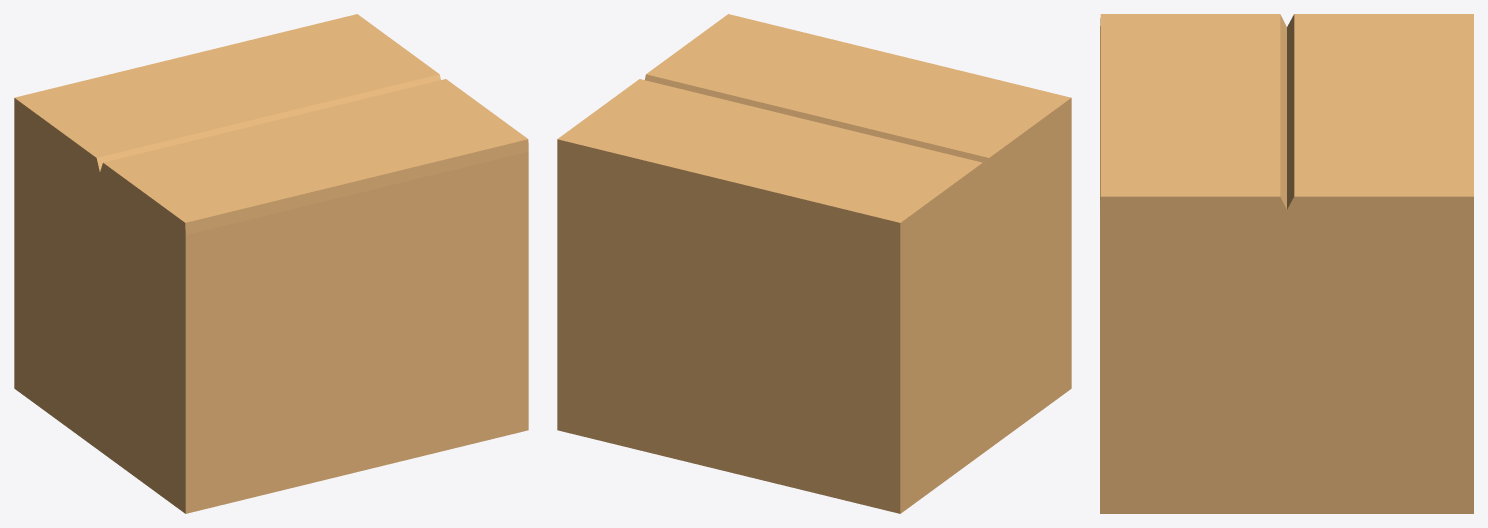
The model's file is cardboard-box_04.fbx.
3 views of the same model, side by side, from view 1: azimuth 30°, elevation 25°; view 2: azimuth 150°, elevation 25°; view 3: azimuth 270°, elevation 25° (orthographic). The views are drawn at different scales.
Parts seen in each view (by area): view 1: cardboard-box_04; view 2: cardboard-box_04; view 3: cardboard-box_04.
Part boxes in pixels (box(x1,y1,x2,y2)): cardboard-box_04: box(14, 14, 528, 513); cardboard-box_04: box(557, 14, 1071, 513); cardboard-box_04: box(1100, 14, 1473, 513).
Bounding box in the file's own units: 59.16 × 47.94 × 51.17.
Materials: 1 (1 with a texture image).
